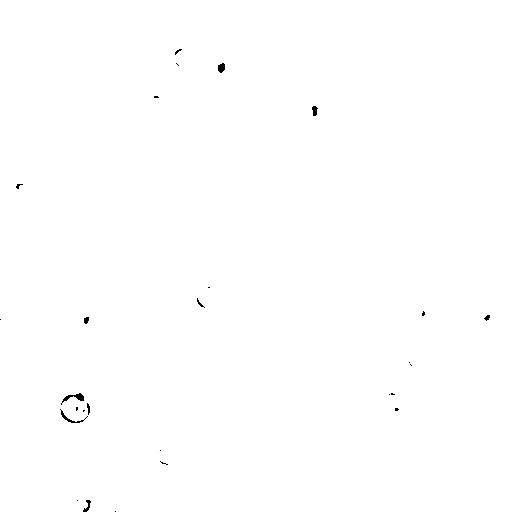micro-algae: (21, 131, 106, 219), (291, 219, 370, 304), (439, 342, 512, 427), (329, 425, 393, 489), (273, 451, 338, 510), (276, 83, 319, 125), (370, 371, 406, 407), (201, 50, 239, 84), (66, 314, 105, 347), (69, 19, 101, 54), (261, 102, 294, 135), (59, 391, 92, 424), (114, 207, 149, 238), (299, 93, 331, 126), (467, 297, 500, 329), (489, 367, 511, 412), (403, 296, 437, 325), (31, 27, 59, 59), (240, 65, 270, 94), (205, 33, 235, 61), (65, 379, 94, 407), (23, 1, 55, 26), (161, 281, 189, 309), (73, 76, 101, 103), (307, 6, 335, 32), (247, 141, 273, 169), (89, 103, 113, 133), (419, 385, 447, 409), (368, 98, 393, 124), (203, 97, 226, 125), (69, 59, 95, 83), (127, 412, 153, 436), (245, 471, 273, 493), (433, 0, 469, 17), (173, 45, 198, 69), (194, 284, 217, 309), (70, 305, 93, 330), (482, 270, 507, 293), (355, 214, 380, 236), (403, 343, 425, 368), (150, 283, 175, 303), (380, 396, 405, 416), (156, 444, 179, 465), (379, 343, 399, 367), (303, 116, 327, 135), (155, 375, 173, 399), (318, 501, 356, 512), (483, 373, 501, 395), (70, 495, 93, 512), (135, 457, 156, 473), (133, 303, 149, 323), (13, 113, 31, 128), (14, 182, 33, 196), (111, 502, 135, 512)
